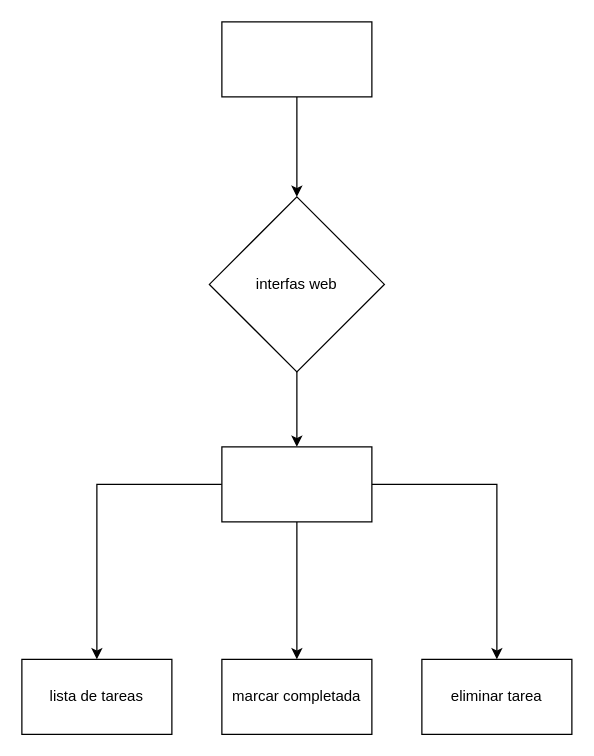
Image size: 594x756. Some labels were removed from this diagram. Each missing label, with the centre of its shape:
"agregar tarea" belongs at (x=296, y=484).
"usuario" belongs at (x=296, y=59).
